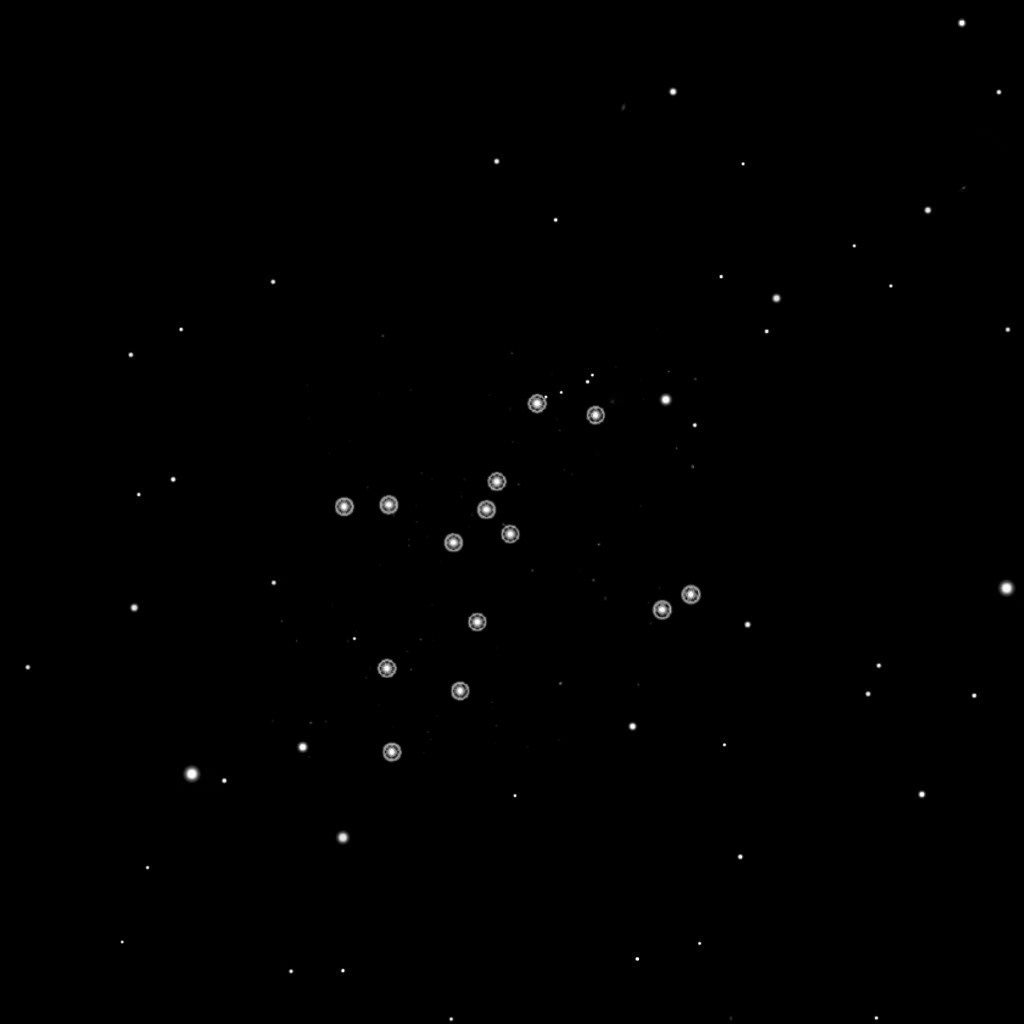canis_major: (439, 385, 611, 561)
